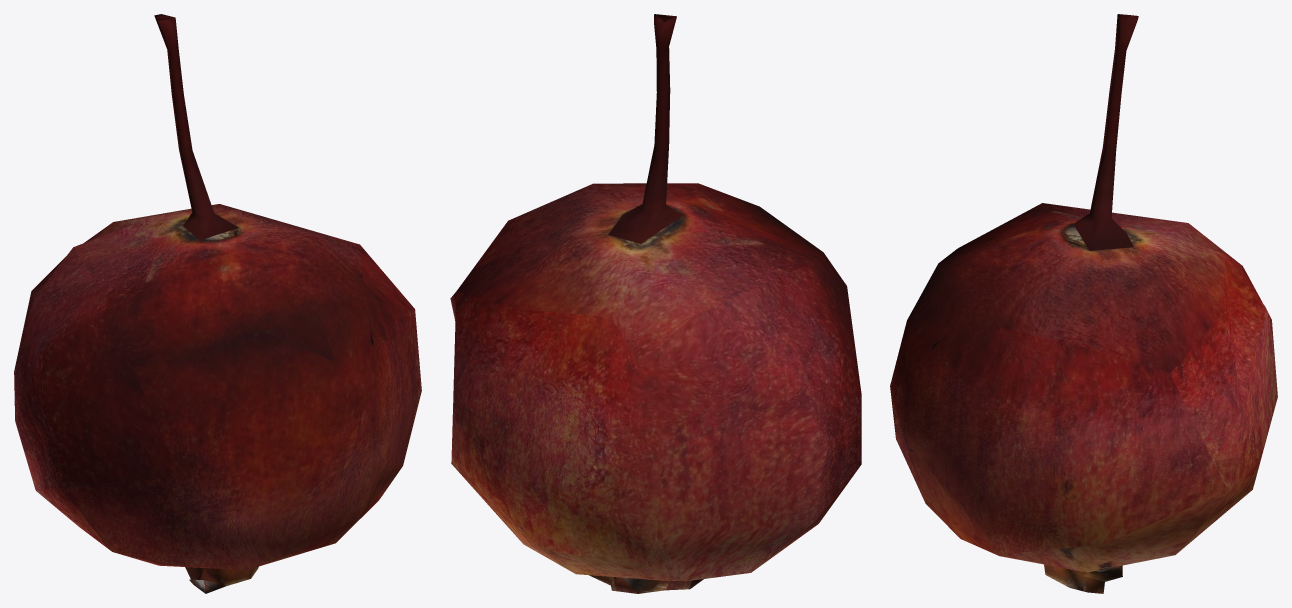
3 renders of one model, left to right at view 1: azimuth 30°, elevation 25°; view 2: azimuth 150°, elevation 25°; view 3: azimuth 270°, elevation 25°, orthographic. The views are drawn at different scales.
Visible parts, largest first — view 1: 23_pomegranate; view 2: 23_pomegranate; view 3: 23_pomegranate.
Part boxes in pixels (x1,y1,x2,y2): 23_pomegranate: (14, 14, 421, 593); 23_pomegranate: (450, 14, 861, 593); 23_pomegranate: (890, 14, 1277, 593).
Size of the model in its own units: 95.8 by 139 by 89.89.
